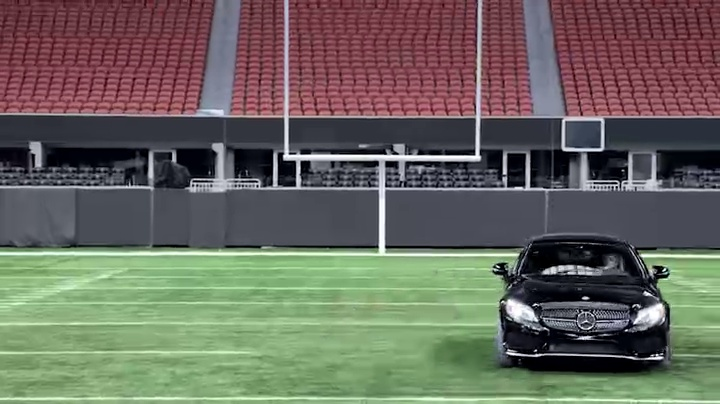amg: (492, 231, 675, 371)
